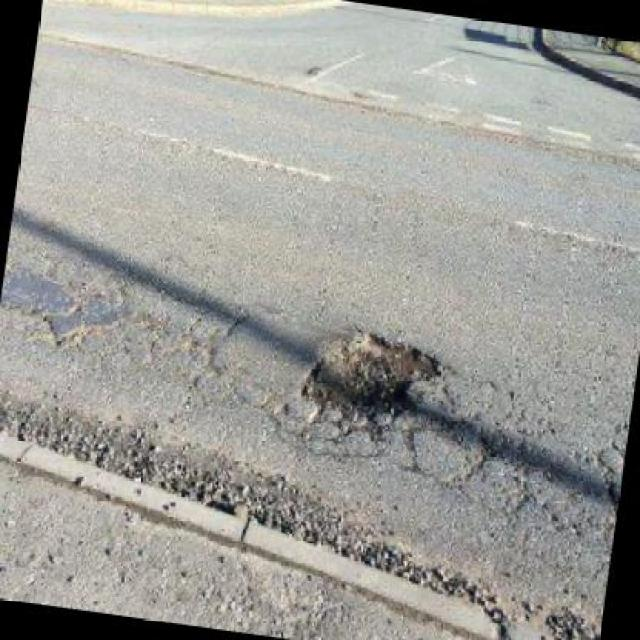pothole1: (288, 318, 450, 444)
